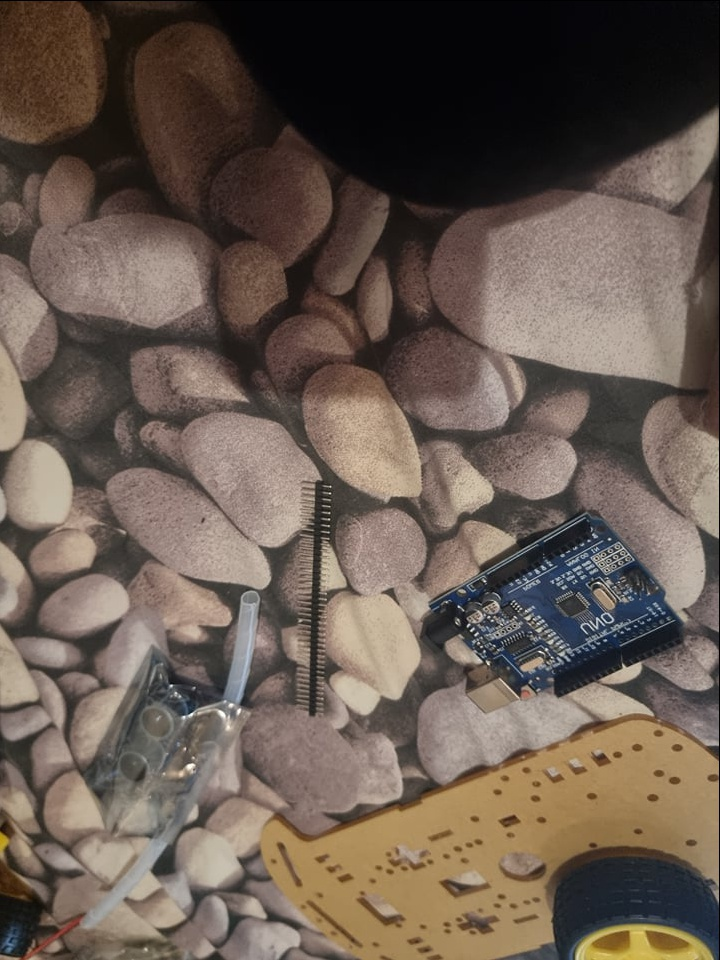SENSOR: (112, 685, 189, 786)
UNO R3: (414, 507, 688, 715)
